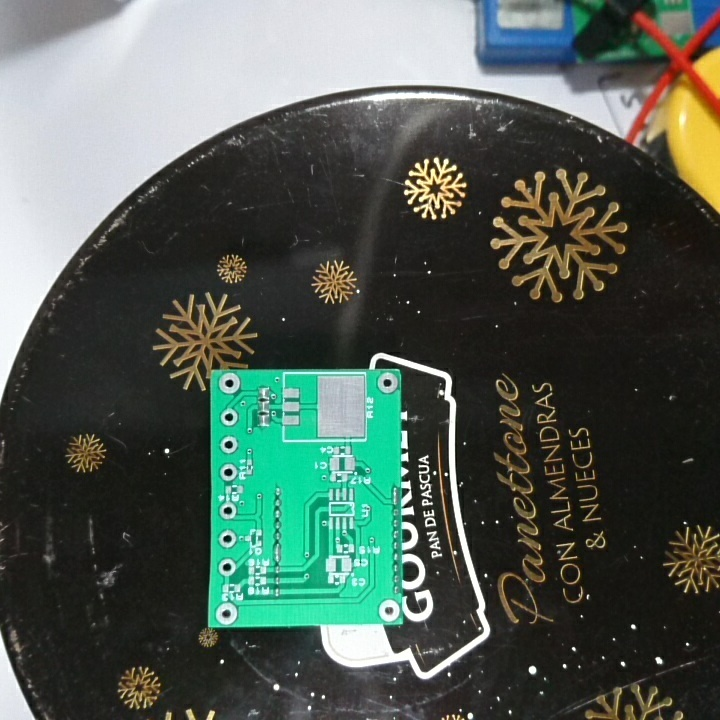F: (213, 600, 240, 626), (216, 371, 244, 396), (376, 597, 401, 623), (216, 527, 239, 554), (376, 370, 399, 396), (215, 500, 239, 523), (218, 434, 241, 457), (218, 462, 239, 484), (217, 558, 238, 580), (219, 408, 239, 429)
P: (271, 541, 284, 565), (390, 483, 401, 509)
